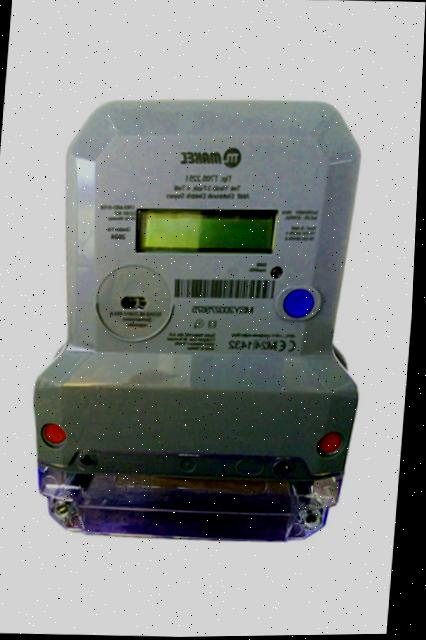electric-meter-detection: (33, 100, 359, 539)
